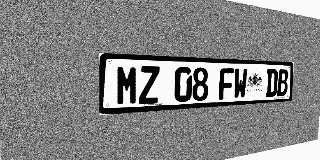0: (174, 67, 192, 102)
8: (192, 67, 209, 101)
B: (277, 69, 289, 96)
D: (266, 69, 278, 97)
F: (219, 68, 234, 100)
M: (116, 65, 139, 106)
W: (233, 68, 248, 99)
Z: (139, 66, 160, 104)
